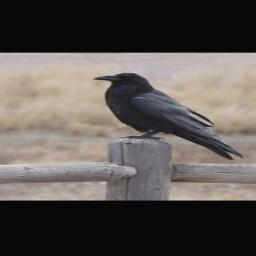Crow: (91, 71, 246, 161)
